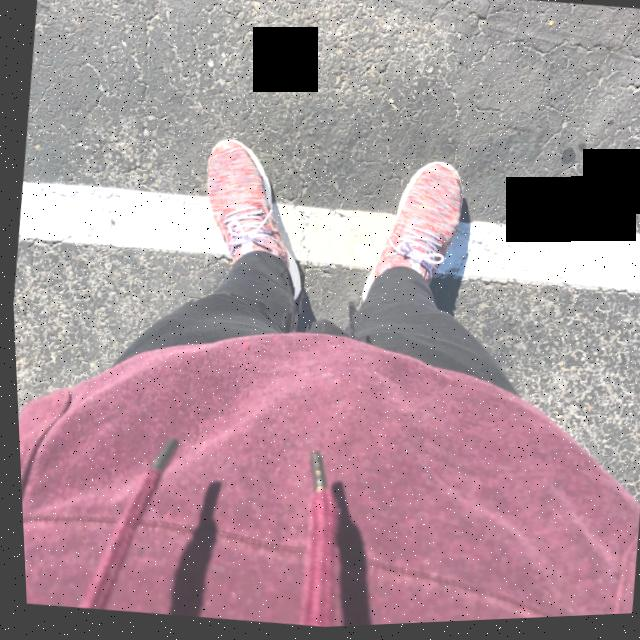shoe: (177, 127, 319, 320), (340, 141, 482, 328)
